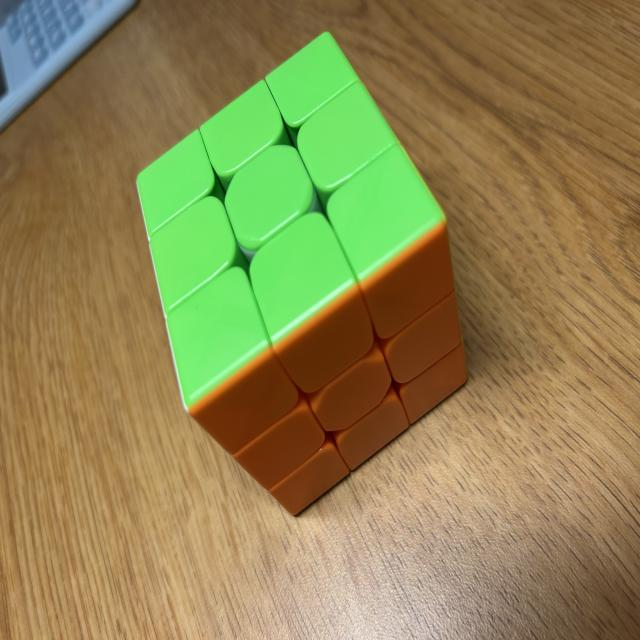Rubiks Cube: (136, 29, 467, 515)
